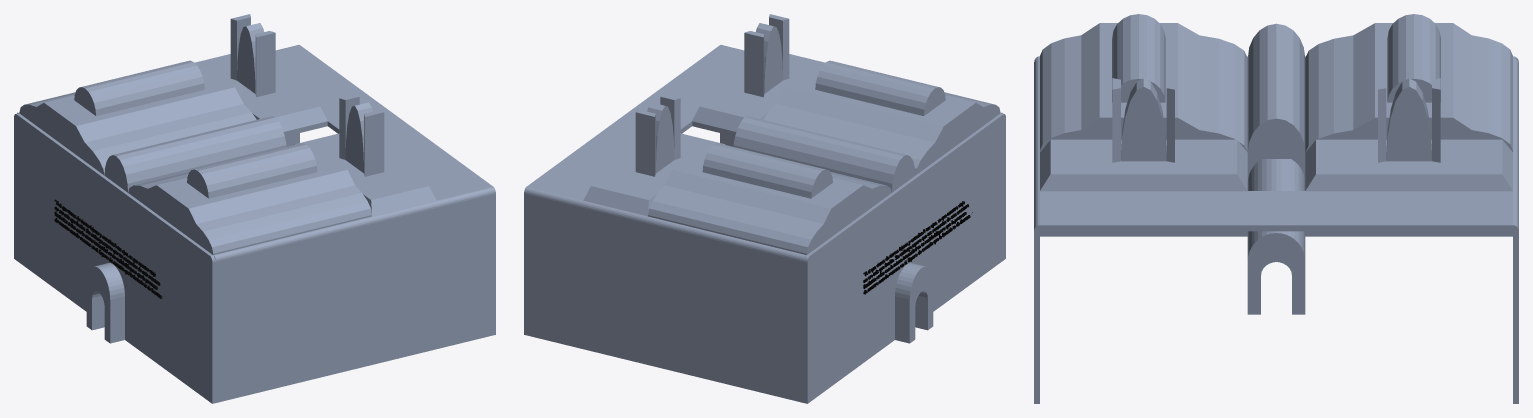
The model's file is museito.glb.
3 views of the same model, side by side, from view 1: azimuth 30°, elevation 25°; view 2: azimuth 150°, elevation 25°; view 3: azimuth 270°, elevation 25° (orthographic). The views are drawn at different scales.
Visible parts, largest first — view 1: Cubo, Texto; view 2: Cubo, Texto; view 3: Cubo.
Part boxes in pixels (x1,y1,x2,y2): Cubo: [14, 14, 495, 403]; Texto: [54, 199, 162, 298]; Cubo: [524, 14, 1005, 403]; Texto: [863, 201, 972, 294]; Cubo: [1034, 14, 1518, 403].
Size of the model in its own units: 7.68 by 5.4 by 8.85.
